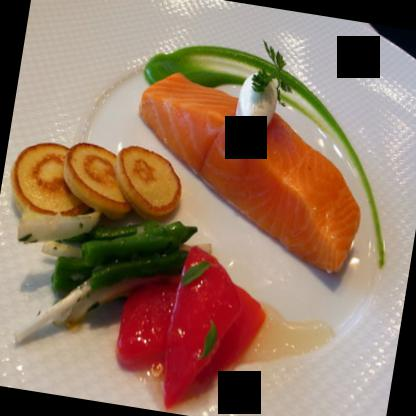salmon: (115, 69, 382, 286)
